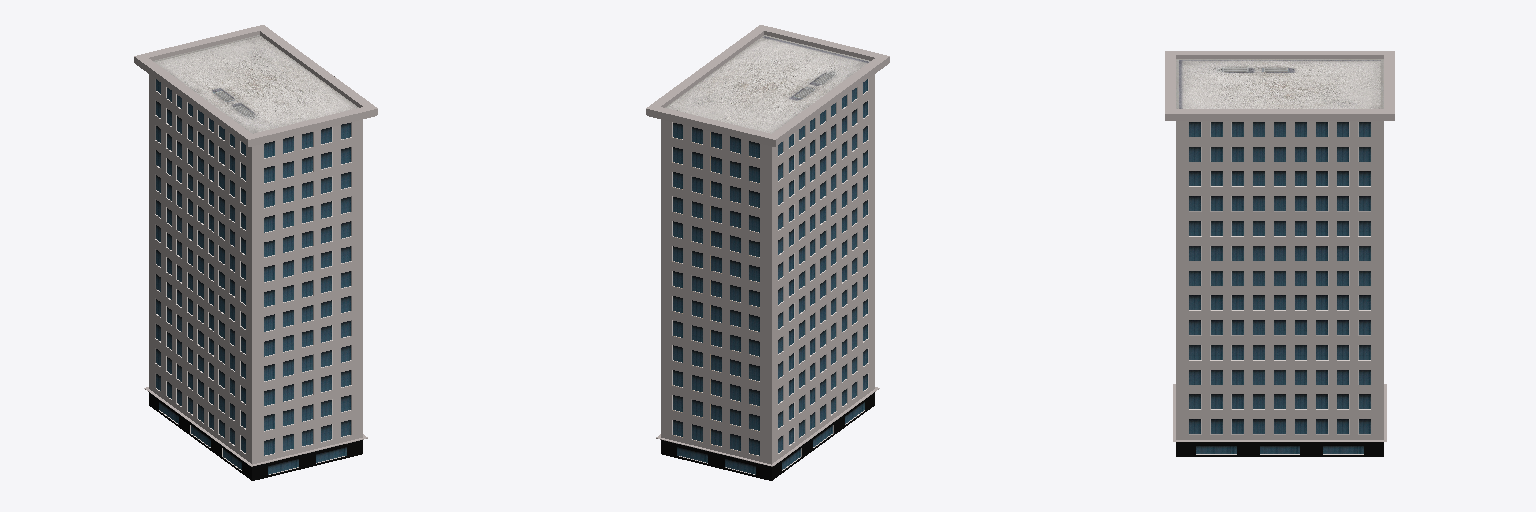
The picture shows the model from 3 angles: view 1: azimuth 30°, elevation 25°; view 2: azimuth 150°, elevation 25°; view 3: azimuth 270°, elevation 25°; orthographic projection.
Size of the model in its own units: 14.67 by 37.53 by 22.45.
Materials: 43 (3 with a texture image).